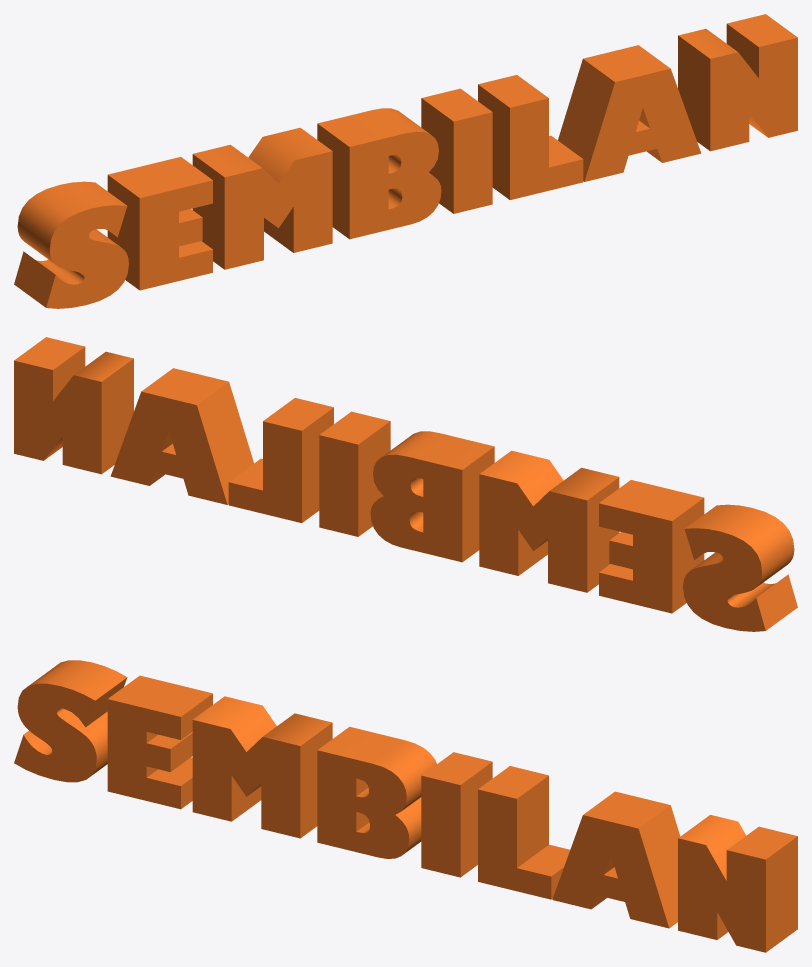
The picture shows the model from 3 angles, top to bottom: view 1: azimuth 30°, elevation 25°; view 2: azimuth 150°, elevation 25°; view 3: azimuth 330°, elevation 25°; orthographic projection.
Parts seen in each view (by area): view 1: node_id175; view 2: node_id175; view 3: node_id175.
Boxes of the visible parts, x1,y1,x2,y2 form: node_id175: [14, 14, 797, 308]; node_id175: [14, 337, 797, 631]; node_id175: [14, 660, 797, 952].
Size of the model in its own units: 0.2025 by 0.0245 by 0.015.
